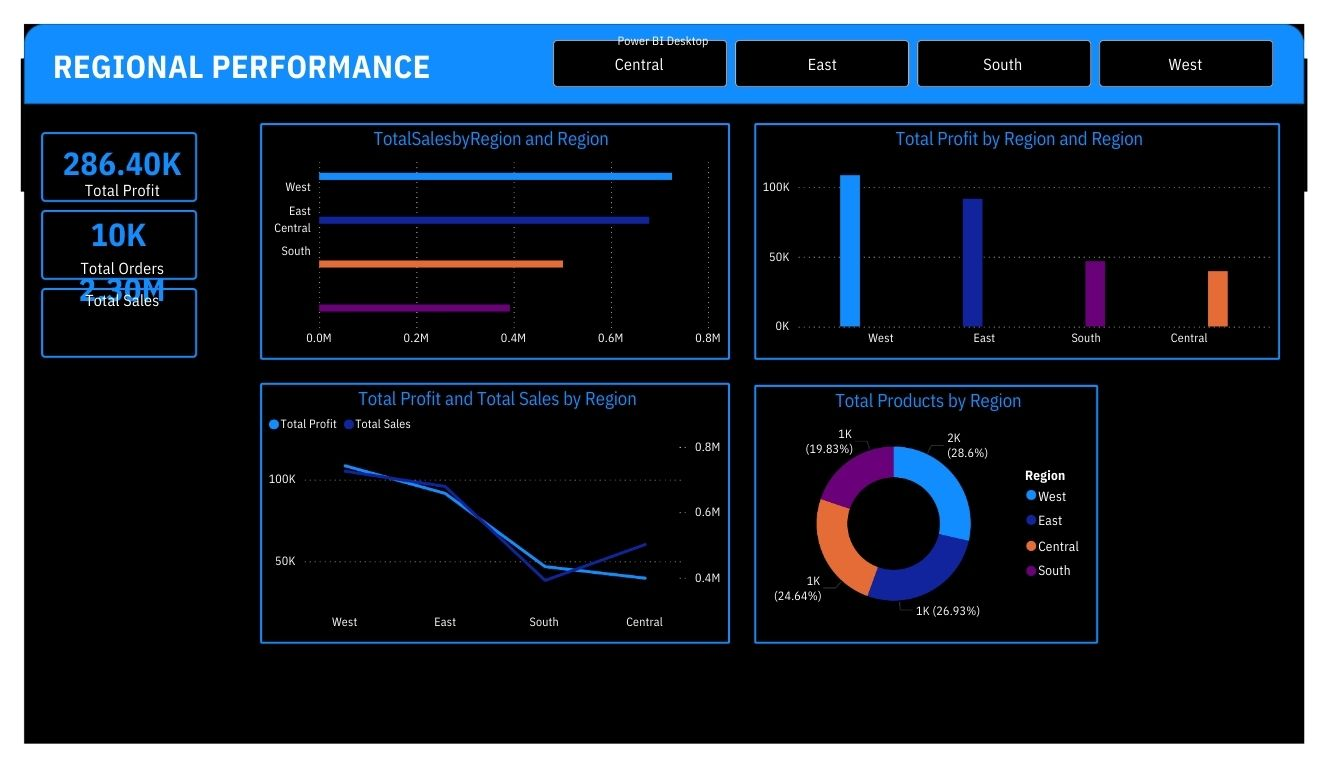

What the dashboard file says about the page in this screenshot:
{"tool":"powerbi","page":{"name":"Regional Performance","canvas":[1280,720],"ordinal":2},"visuals":[{"type":"shape","box":[0,0,1279.7,79.9],"z":0},{"type":"textbox","box":[24,11.2,423.4,68.7],"z":1000},{"type":"cardVisual","fields":{"Data":["All Measure.Total Profit","All Measure.Total Orders","All Measure.Total Sales"]},"box":[0,91.1,190,260],"z":2000},{"type":"clusteredBarChart","fields":{"Category":["Orders.Region"],"Y":["All Measure.Total Sales"],"Series":["Orders.Region"]},"box":[236.5,99.1,469.7,236.5],"z":3000},{"type":"clusteredColumnChart","fields":{"Category":["Orders.Region"],"Y":["All Measure.Total Profit"],"Series":["Orders.Region"]},"box":[730.1,99.1,525.6,236.5],"z":4000},{"type":"lineChart","fields":{"Y":["All Measure.Total Profit"],"Category":["Orders.Region"],"Y2":["All Measure.Total Sales"]},"box":[236.5,359.5,469.7,260.4],"z":5000},{"type":"donutChart","fields":{"Category":["Orders.Region"],"Y":["All Measure.Total Products"]},"box":[730.1,361.1,343.5,258.8],"z":6000},{"type":"advancedSlicerVisual","fields":{"Values":["Orders.Region"]},"box":[524,11.2,731.7,57.5],"z":7000}]}

Visuals, with their boxes on the page's 1280x720 design canvas (x1, y1, x2, y2). These are canvas units, not pixel positions in the 1328x768 screenshot, which may show the page scaled, cropped or inside an application window:
shape: left=0, top=0, right=1280, bottom=80
textbox: left=24, top=11, right=447, bottom=80
cardVisual - All Measure.Total Profit x All Measure.Total Orders: left=0, top=91, right=190, bottom=351
clusteredBarChart - Orders.Region x All Measure.Total Sales: left=236, top=99, right=706, bottom=336
clusteredColumnChart - Orders.Region x All Measure.Total Profit: left=730, top=99, right=1256, bottom=336
lineChart - All Measure.Total Profit x Orders.Region: left=236, top=360, right=706, bottom=620
donutChart - Orders.Region x All Measure.Total Products: left=730, top=361, right=1074, bottom=620
advancedSlicerVisual - Orders.Region: left=524, top=11, right=1256, bottom=69
